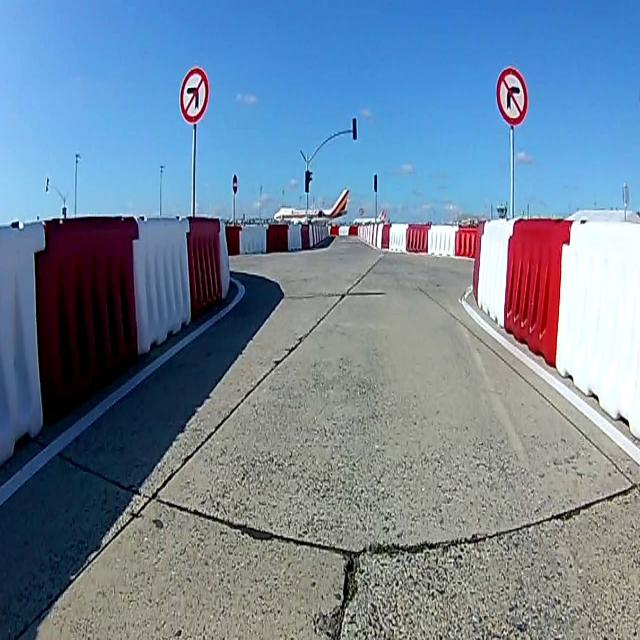sagadonulmez: (496, 66, 530, 127)
soladonulmez: (180, 66, 209, 122)
